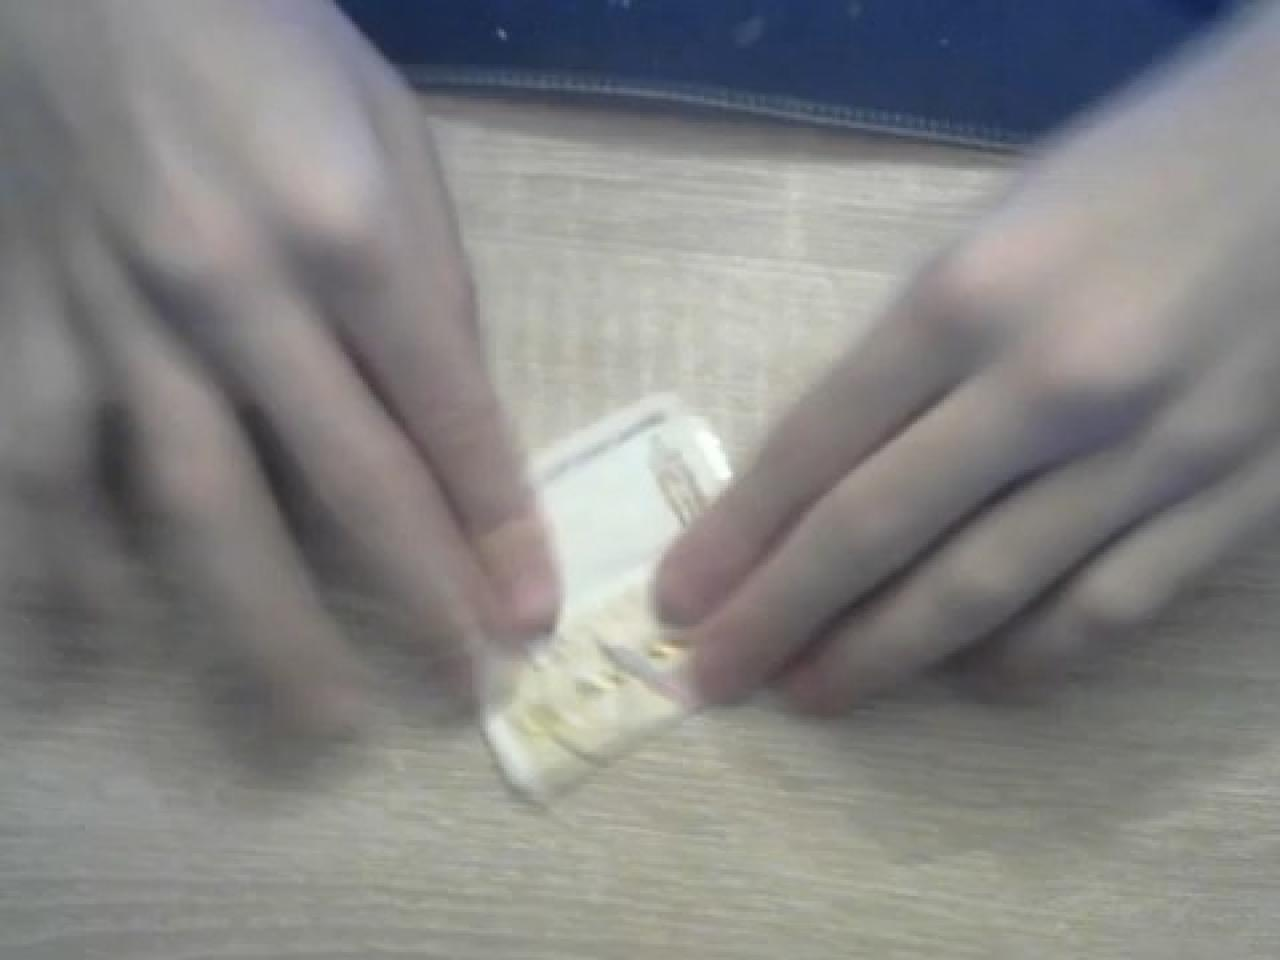10leva: (480, 394, 731, 811)
